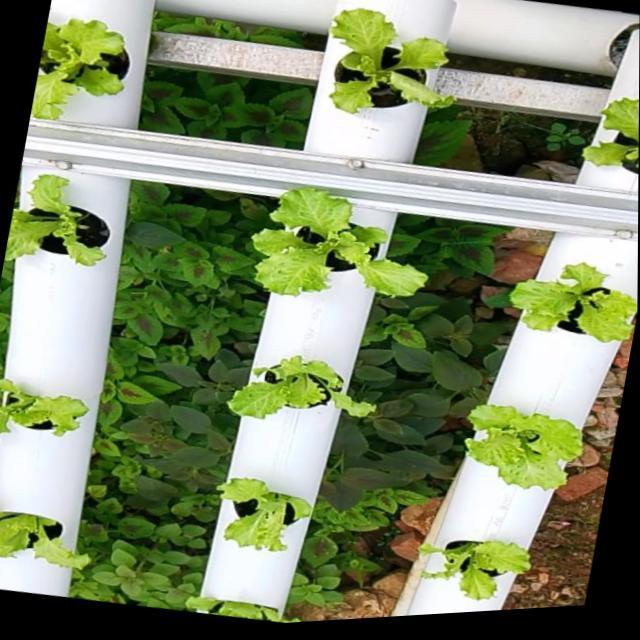Baby: (260, 189, 434, 295), (337, 11, 462, 116), (32, 3, 140, 121), (4, 175, 121, 266), (471, 402, 587, 487), (515, 263, 638, 342), (235, 354, 381, 416), (226, 474, 320, 547), (425, 537, 536, 595), (0, 375, 99, 437), (0, 507, 99, 563), (589, 99, 639, 173)
